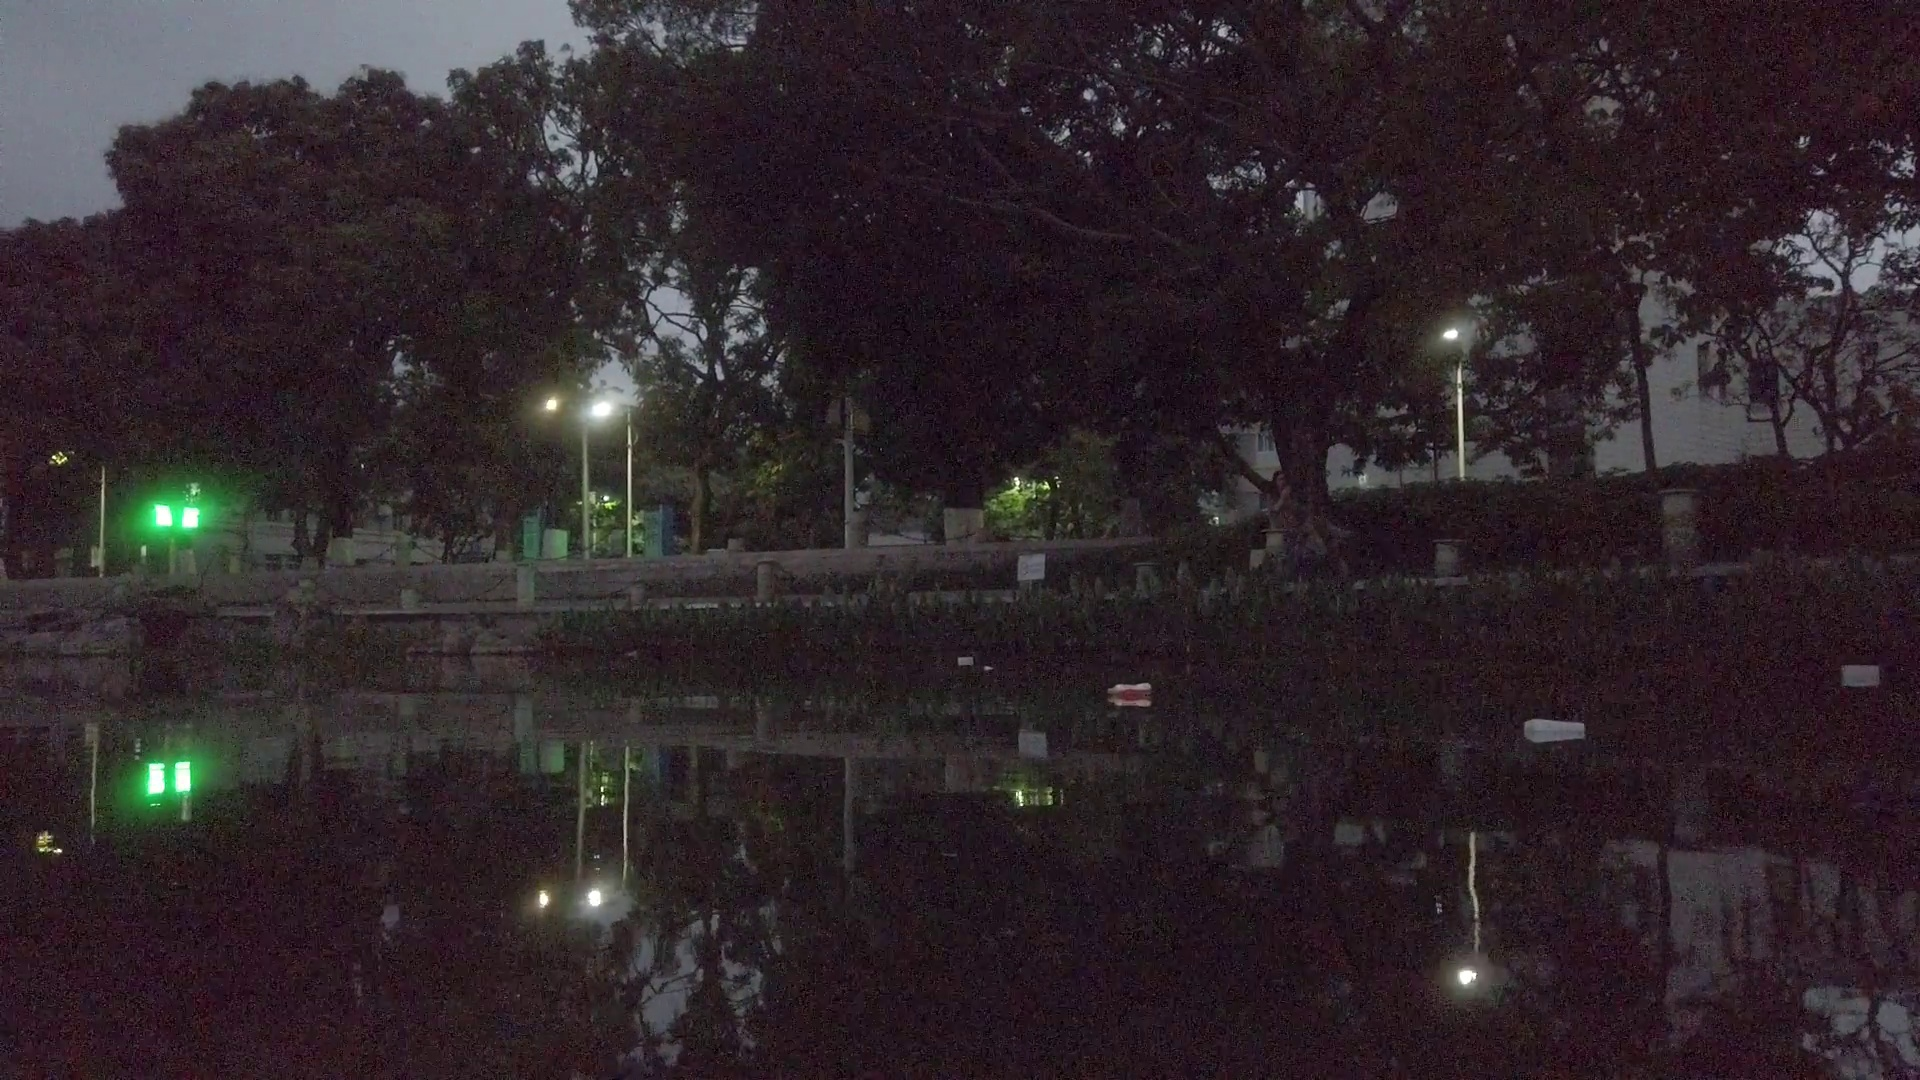bottle: (1106, 682, 1151, 700)
carton: (1523, 719, 1586, 742), (1842, 662, 1880, 688), (955, 653, 976, 669)
